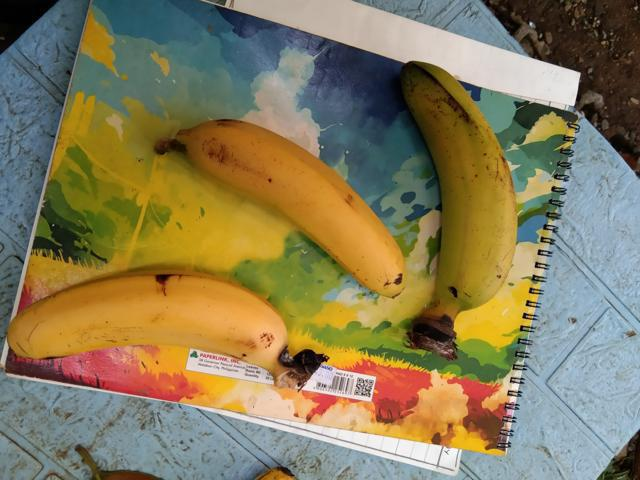freshripe: (173, 106, 401, 305), (1, 251, 285, 386)
ripe: (398, 51, 533, 329)
